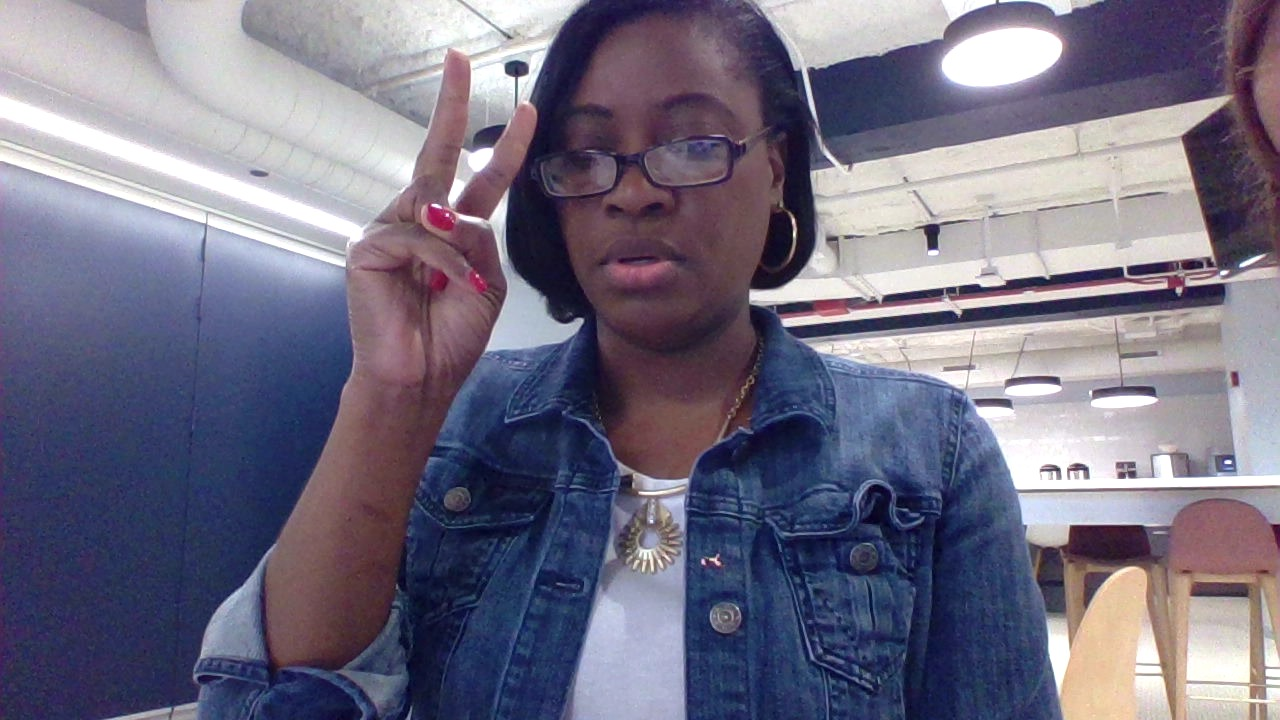v: (323, 32, 561, 416)
